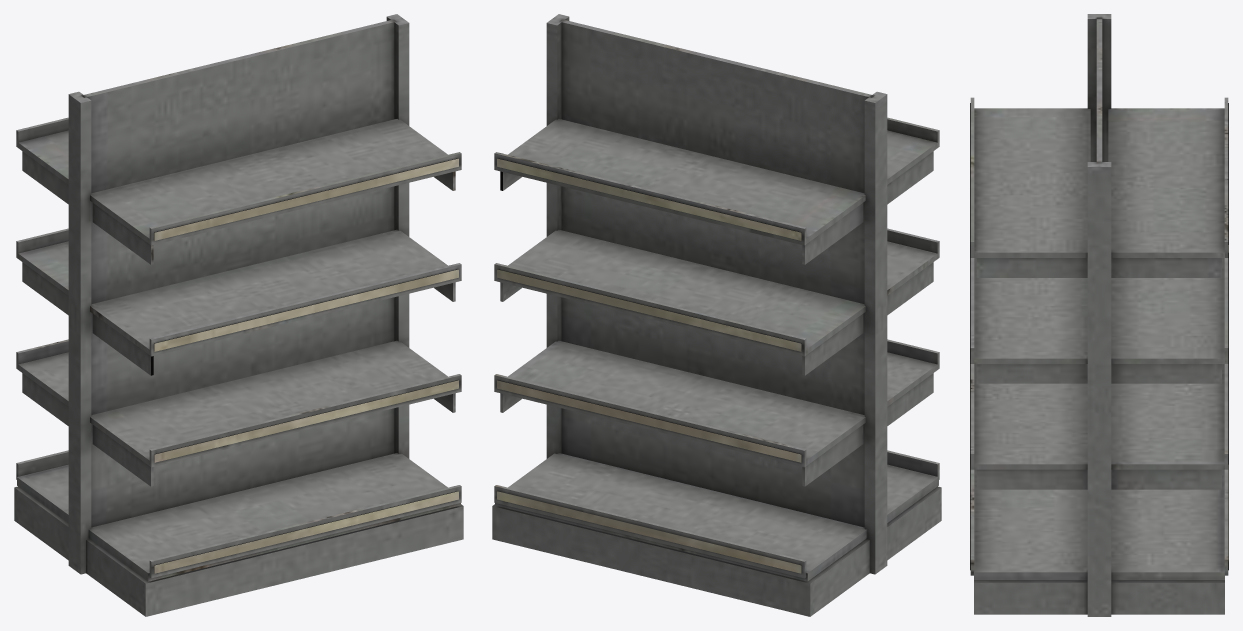
File: gondola_12_lod1_web.glb
3 views of the same model, side by side, from view 1: azimuth 30°, elevation 25°; view 2: azimuth 150°, elevation 25°; view 3: azimuth 270°, elevation 25° (orthographic). The views are drawn at different scales.
Parts seen in each view (by area): view 1: Gondola12_Body; view 2: Gondola12_Body; view 3: Gondola12_Body.
Boxes of the visible parts, <box> form: Gondola12_Body: <box>14,14,463,616</box>; Gondola12_Body: <box>492,14,941,616</box>; Gondola12_Body: <box>970,14,1228,616</box>.
Size of the model in its own units: 1.24 by 1.7 by 0.886.
1 material, 1 textured.
